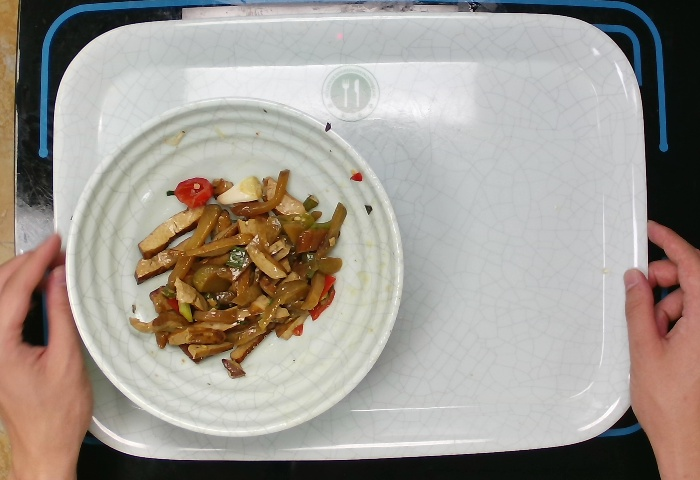JYsf-Da_Tang_Wan: (61, 92, 410, 442)
